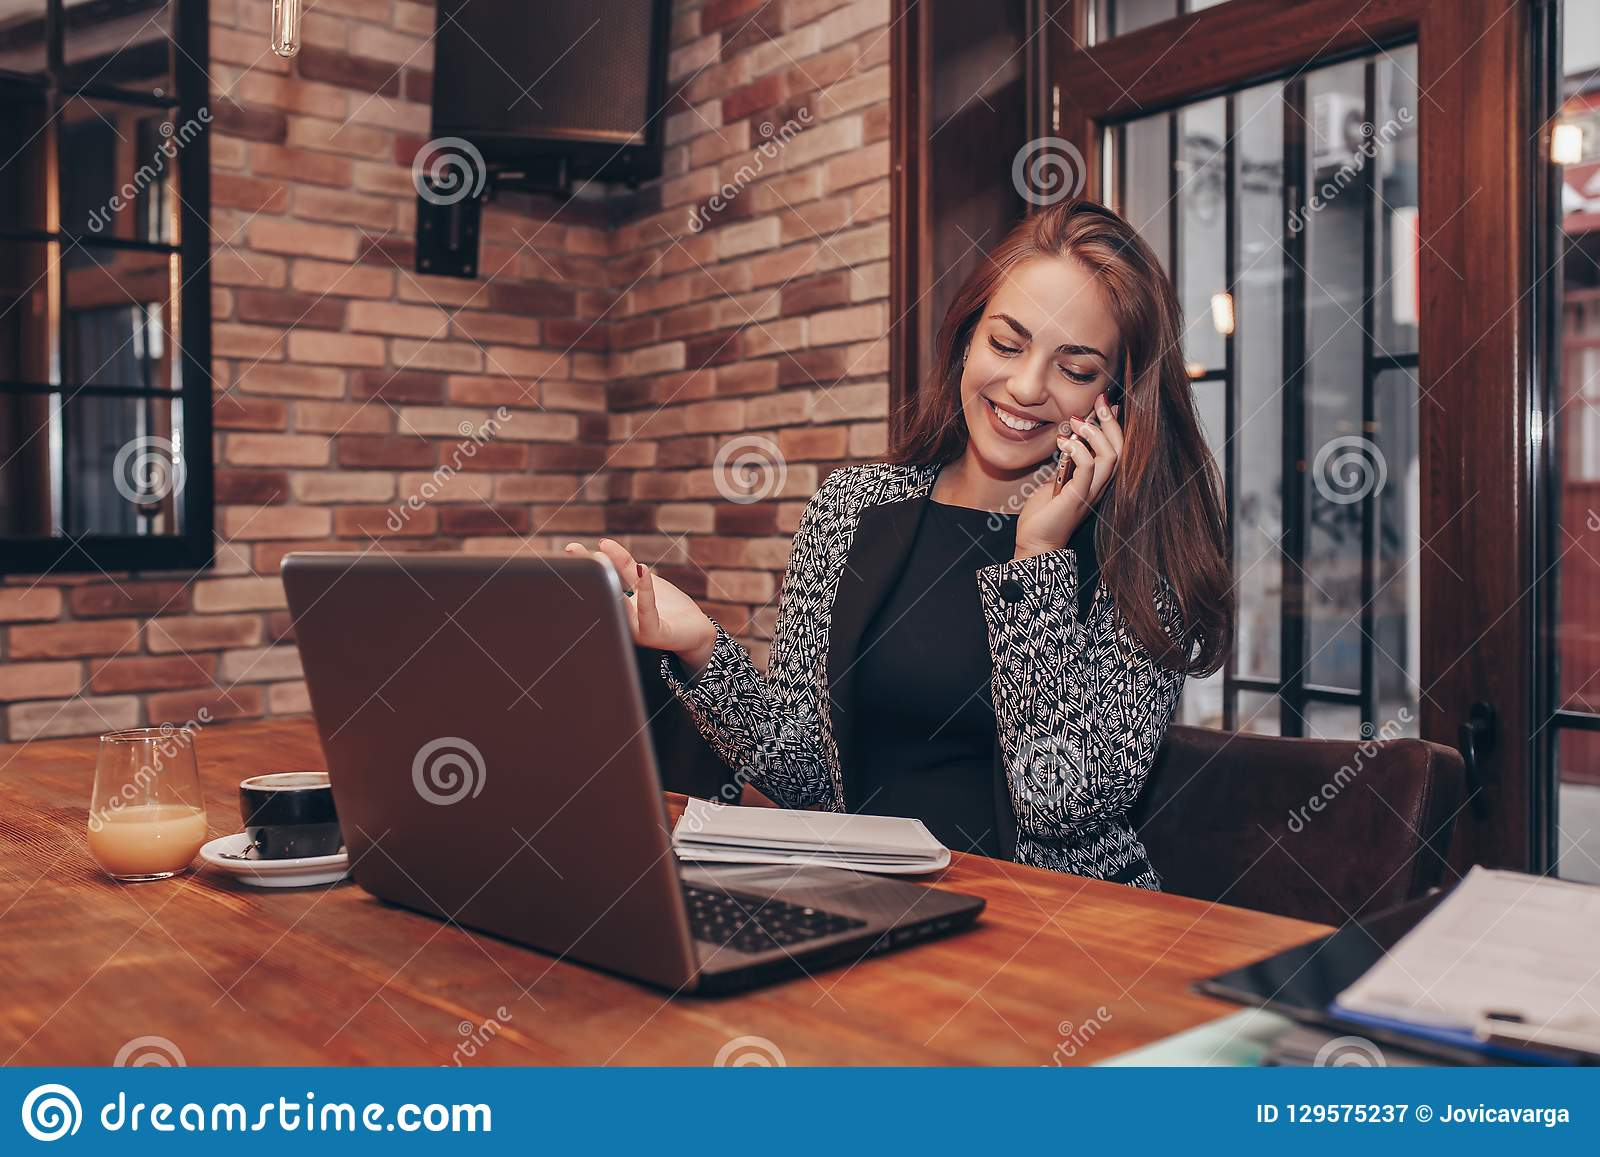phone: (1051, 393, 1117, 495)
talk: (963, 306, 1124, 549)
